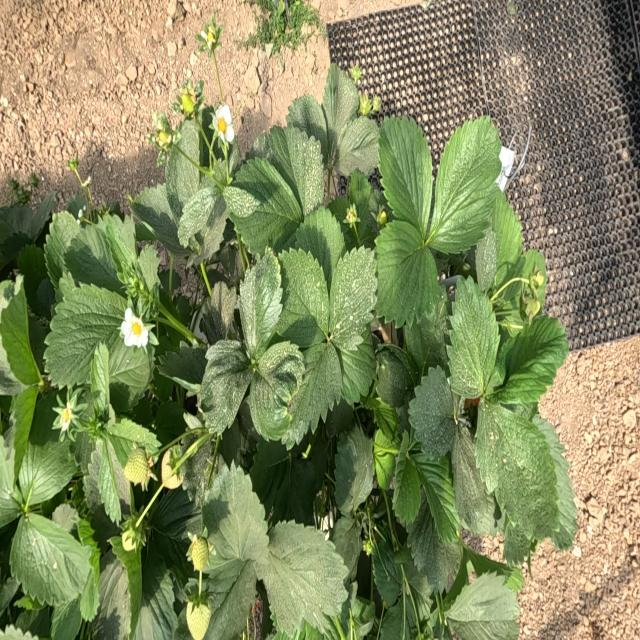Flowers: (53, 395, 79, 437), (121, 308, 147, 347), (211, 106, 235, 143)
Leaves: (476, 402, 558, 540), (427, 118, 502, 252), (259, 521, 347, 635), (44, 281, 127, 387), (11, 513, 91, 605), (517, 538, 588, 638), (227, 158, 301, 253), (203, 465, 268, 568), (379, 117, 433, 237), (375, 220, 436, 326), (496, 313, 567, 404), (447, 278, 500, 399), (533, 415, 577, 549), (284, 341, 341, 442), (262, 125, 324, 216), (67, 214, 135, 294), (278, 248, 330, 347), (406, 496, 460, 590), (451, 422, 495, 535), (329, 248, 377, 351), (199, 339, 252, 432), (447, 573, 519, 639), (90, 332, 150, 409), (411, 451, 459, 546), (240, 250, 282, 357), (149, 488, 202, 570), (255, 342, 303, 431), (203, 560, 257, 639), (405, 272, 447, 372), (409, 367, 455, 457), (0, 279, 39, 385), (131, 185, 188, 254), (295, 206, 344, 285), (84, 557, 130, 639), (19, 441, 77, 505), (166, 119, 202, 219), (322, 62, 358, 160), (335, 426, 374, 515), (133, 561, 177, 639), (500, 250, 547, 322), (110, 535, 142, 627), (250, 440, 288, 517), (273, 457, 315, 525), (286, 94, 328, 161), (492, 191, 522, 281), (106, 418, 159, 468), (334, 339, 375, 403), (44, 211, 79, 285), (336, 116, 379, 176), (393, 432, 420, 524), (179, 186, 220, 245), (13, 388, 39, 480), (380, 579, 419, 639), (200, 282, 235, 343), (372, 537, 402, 607), (96, 436, 120, 523), (157, 343, 207, 384), (29, 390, 64, 446), (18, 244, 48, 309), (348, 170, 373, 242), (200, 196, 227, 259), (155, 400, 186, 443), (476, 229, 497, 291), (27, 192, 55, 238), (51, 597, 81, 639), (65, 432, 93, 470)
Strawberries: (196, 16, 222, 54), (187, 603, 210, 639), (125, 449, 149, 483), (187, 535, 208, 571), (162, 452, 181, 487), (523, 265, 544, 295), (358, 93, 381, 116), (522, 296, 540, 319), (180, 92, 194, 115), (157, 130, 171, 146), (349, 66, 361, 84), (347, 207, 358, 224), (377, 212, 387, 225)
